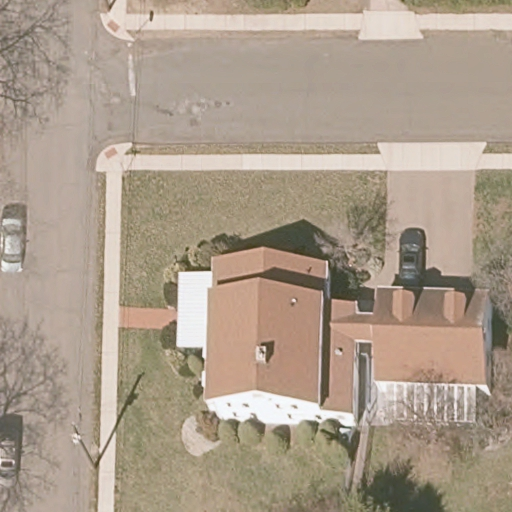DT: (68, 409, 98, 467)
